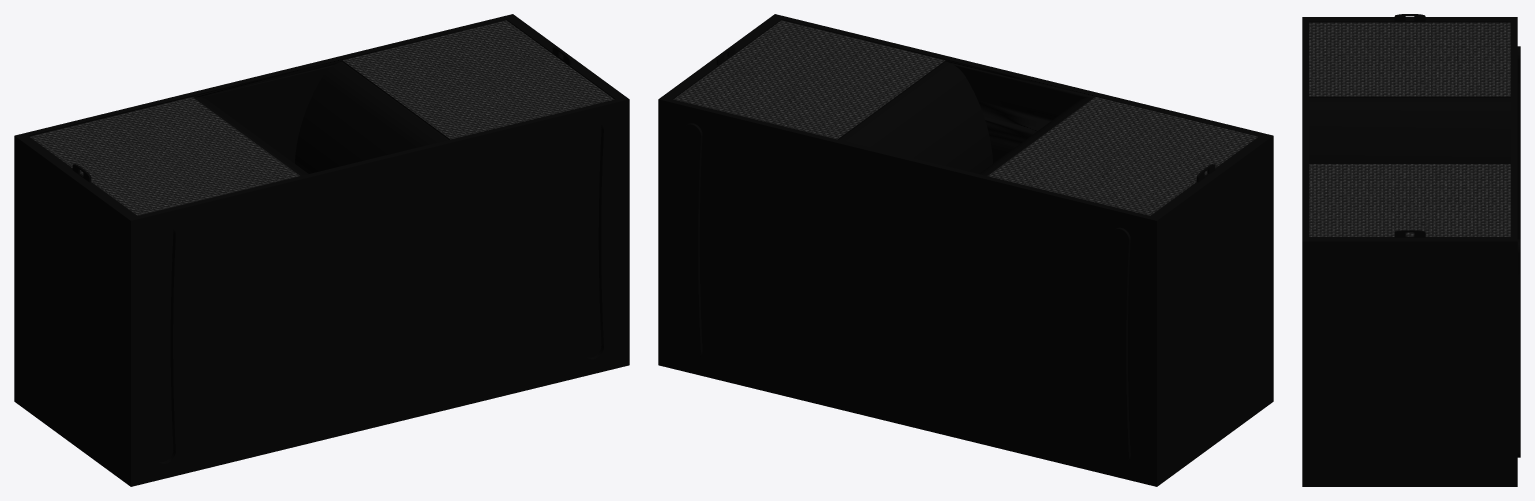
File: subwoofer_test.fbx
3 renders of one model, left to right at view 1: azimuth 30°, elevation 25°; view 2: azimuth 150°, elevation 25°; view 3: azimuth 270°, elevation 25°, orthographic. The views are drawn at different scales.
Parts seen in each view (by area): view 1: empty_6.001; view 2: empty_6.001; view 3: empty_6.001.
Boxes of the visible parts, bbox=[...] form: empty_6.001: bbox=[14, 14, 629, 486]; empty_6.001: bbox=[658, 14, 1273, 486]; empty_6.001: bbox=[1302, 14, 1520, 486].
Bounding box in the file's own units: 134 × 70.2 × 55.
Materials: 2 (1 with a texture image).
